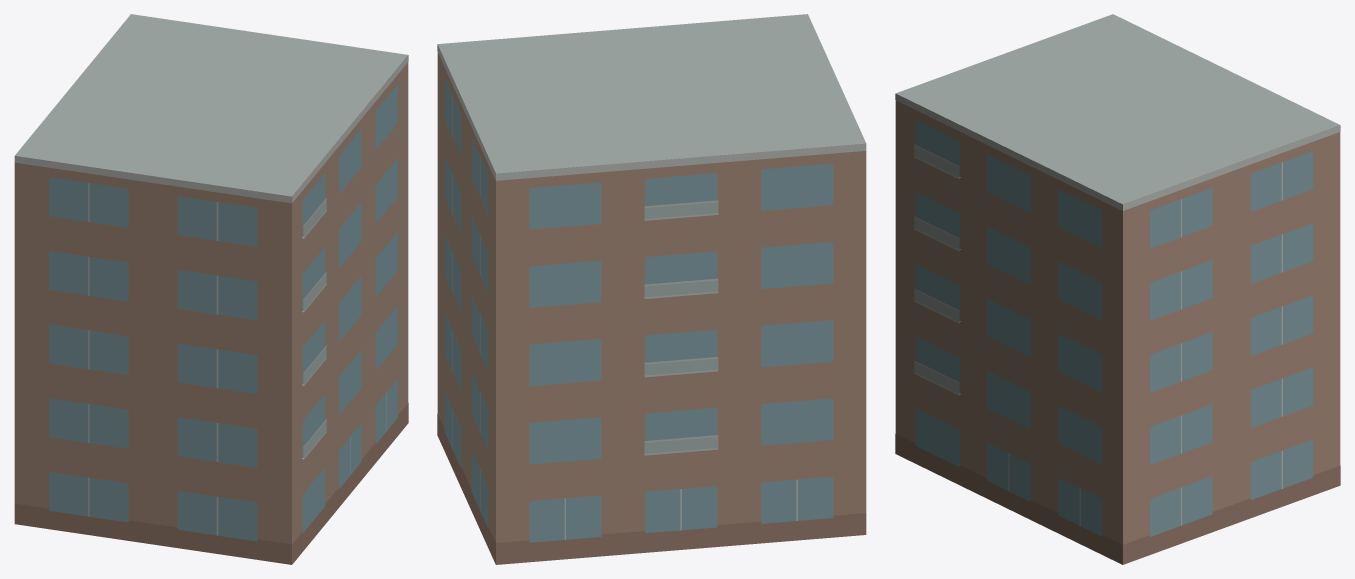
The model's file is survey-upis-32642507.glb.
3 renders of one model, left to right at view 1: azimuth 30°, elevation 25°; view 2: azimuth 150°, elevation 25°; view 3: azimuth 270°, elevation 25°, orthographic. The views are drawn at different scales.
Parts seen in each view (by area): view 1: survey-upis-32642507.tmp; view 2: survey-upis-32642507.tmp; view 3: survey-upis-32642507.tmp.
Boxes of the visible parts, bbox=[...] form: survey-upis-32642507.tmp: bbox=[14, 14, 408, 564]; survey-upis-32642507.tmp: bbox=[437, 14, 866, 564]; survey-upis-32642507.tmp: bbox=[895, 14, 1340, 564].
Bounding box in the file's own units: 14.96 × 13.2 × 14.78.
